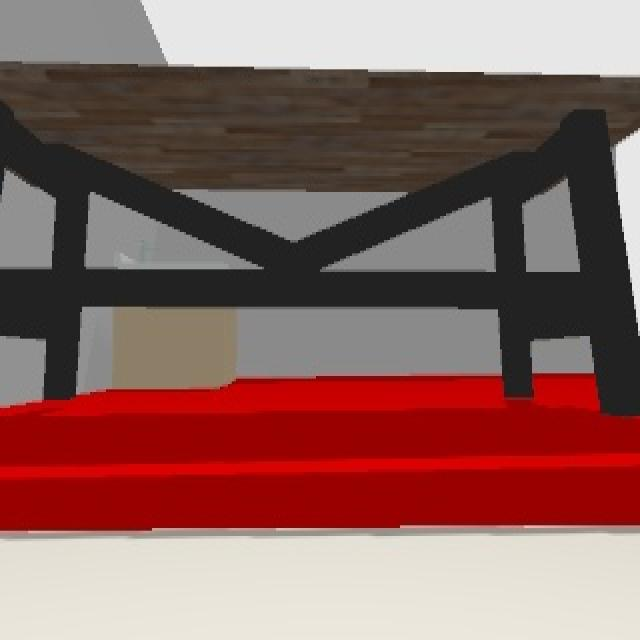dining: (1, 62, 640, 413)
